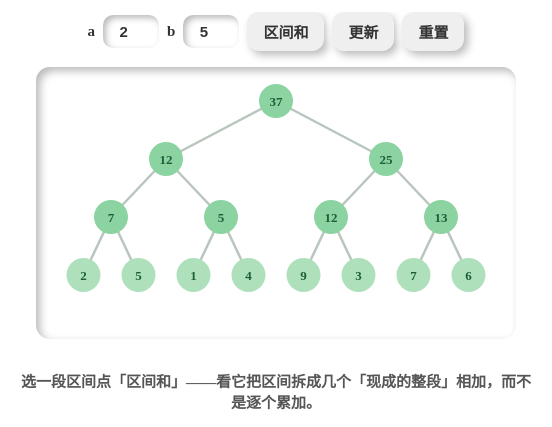
SegTreeViz 线段树互动 › TC-VIZ-SEGVIZ-04 区间和 0,7：status 含 37、covered 点亮 1 个
The width and height of the screenshot is (552, 427).
Replace the text in the number field with class "in-a" with "0" at (131, 32), box x1=103 y1=15 x2=159 y2=48
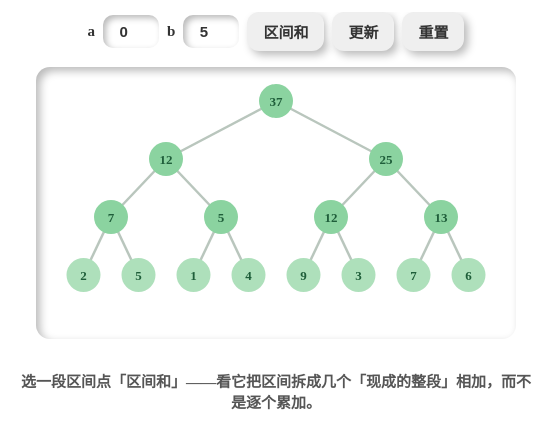
Replace the text in the number field with class "in-b" with "7" at (211, 32), box x1=183 y1=15 x2=239 y2=48
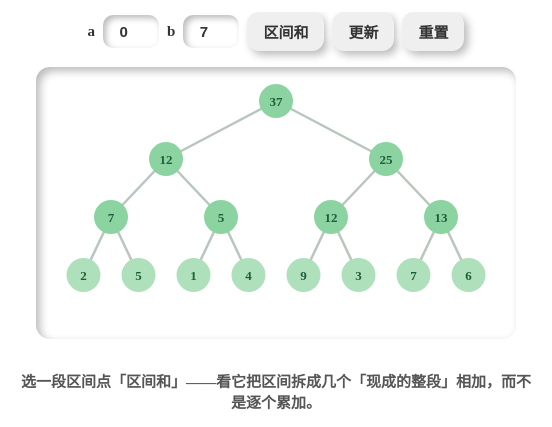
Click the button "区间和" at (286, 32), box x1=247 y1=12 x2=324 y2=51
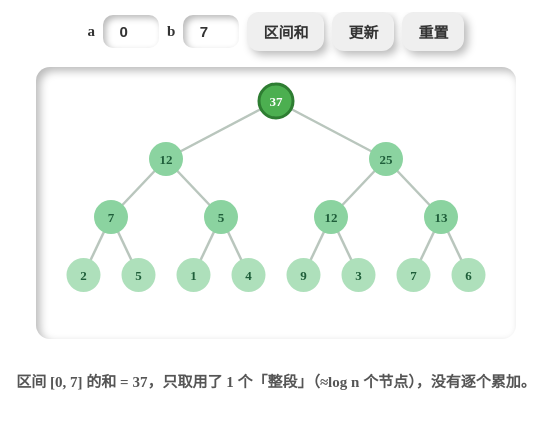
Expected: the message with class "status" shows "37", x1=16 y1=374 x2=536 y2=390
